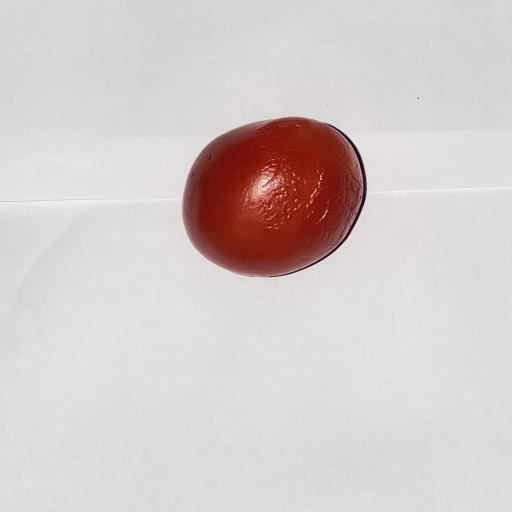spoiled: (183, 117, 364, 276)
